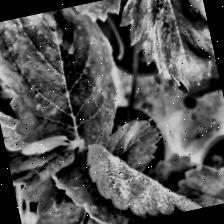Powdery Mildew Leaf: (46, 121, 215, 224), (0, 57, 79, 187)
